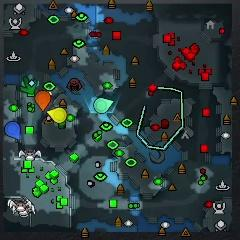p1: (5, 121, 20, 140)
p2: (94, 98, 113, 113)
p4: (46, 107, 67, 123)
p5: (35, 91, 50, 111)
x3: (21, 75, 39, 90)
x4: (20, 77, 36, 93)
